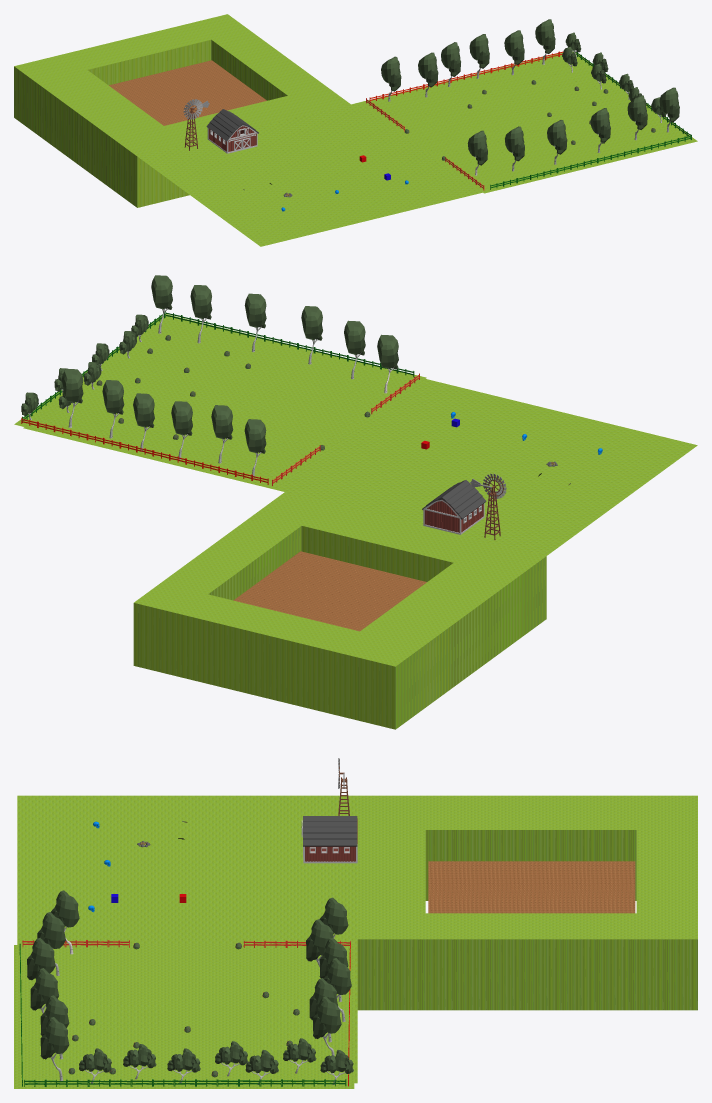
3 renders of one model, top to bottom at view 1: azimuth 30°, elevation 25°; view 2: azimuth 150°, elevation 25°; view 3: azimuth 270°, elevation 25°, orthographic. The views are drawn at different scales.
Parts seen in each view (by area): view 1: ground, lakeGround, forest, lake, Barn, Fence.001, Fence, Windmill, BirchTree_2_Cube.006, BirchTree_2_Cube.008, BirchTree_2_Cube.000, BirchTree_2_Cube.002 (+8 smaller); view 2: lakeGround, ground, forest, lake, Barn, Fence, Fence.001, Windmill, BirchTree_2_Cube.003, BirchTree_2_Cube.012, BirchTree_2_Cube.009, BirchTree_2_Cube.011 (+8 smaller); view 3: ground, lakeGround, forest, lake, Barn, Fence.002, BirchTree_2_Cube.003, BirchTree_2_Cube.009, BirchTree_2_Cube.007, BirchTree_2_Cube.005, BirchTree_2_Cube.011, BirchTree_2_Cube.001 (+13 smaller).
Part boxes in pixels (bbox=[...]): ground: bbox=[137, 53, 687, 246]; lakeGround: bbox=[14, 14, 350, 207]; forest: bbox=[361, 51, 697, 193]; lake: bbox=[109, 60, 266, 125]; Barn: bbox=[206, 109, 258, 153]; Fence.001: bbox=[490, 135, 691, 189]; Fence: bbox=[369, 51, 563, 100]; Windmill: bbox=[183, 99, 209, 150]; BirchTree_2_Cube.006: bbox=[504, 30, 524, 75]; BirchTree_2_Cube.008: bbox=[627, 95, 647, 140]; BirchTree_2_Cube.000: bbox=[381, 56, 401, 101]; BirchTree_2_Cube.002: bbox=[441, 42, 460, 86]; lakeGround: bbox=[133, 492, 546, 729]; ground: bbox=[23, 319, 697, 555]; forest: bbox=[14, 314, 426, 487]; lake: bbox=[233, 551, 426, 631]; Barn: bbox=[422, 480, 486, 534]; Fence: bbox=[21, 417, 268, 484]; Fence.001: bbox=[165, 311, 414, 377]; Windmill: bbox=[470, 473, 506, 539]; BirchTree_2_Cube.003: bbox=[151, 275, 172, 333]; BirchTree_2_Cube.012: bbox=[377, 334, 398, 393]; BirchTree_2_Cube.009: bbox=[61, 368, 83, 427]; BirchTree_2_Cube.011: bbox=[211, 405, 233, 463]; ground: bbox=[17, 795, 357, 1083]; lakeGround: bbox=[357, 795, 697, 1010]; forest: bbox=[14, 945, 354, 1088]; lake: bbox=[428, 861, 635, 913]; Barn: bbox=[301, 816, 357, 863]; Fence.002: bbox=[24, 1079, 346, 1086]; BirchTree_2_Cube.003: bbox=[40, 1017, 69, 1080]; BirchTree_2_Cube.009: bbox=[313, 996, 341, 1055]; BirchTree_2_Cube.007: bbox=[30, 968, 58, 1013]; BirchTree_2_Cube.005: bbox=[27, 938, 55, 980]; BirchTree_2_Cube.011: bbox=[306, 919, 333, 966]; BirchTree_2_Cube.001: bbox=[37, 912, 65, 975].
Size of the model in its own units: 204 by 45.4 by 201.
172 materials, 4 textured.
